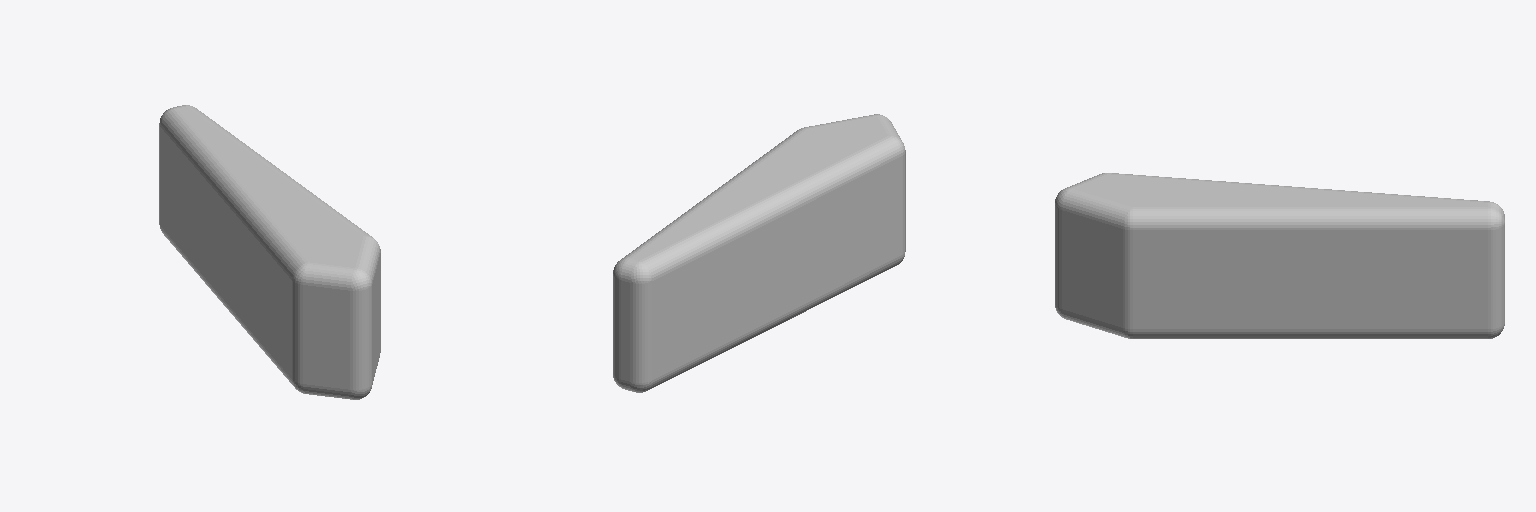
Rendered from Arm2.obj.
3 views of the same model, side by side, from view 1: azimuth 30°, elevation 25°; view 2: azimuth 150°, elevation 25°; view 3: azimuth 270°, elevation 25° (orthographic).
Visible parts, largest first — view 1: Body1; view 2: Body1; view 3: Body1.
Part boxes in pixels (x1,y1,x2,y2): Body1: (159, 105, 380, 399); Body1: (613, 114, 905, 392); Body1: (1055, 173, 1504, 338).
Bounding box in the file's own units: 19.68 × 25 × 78.34.